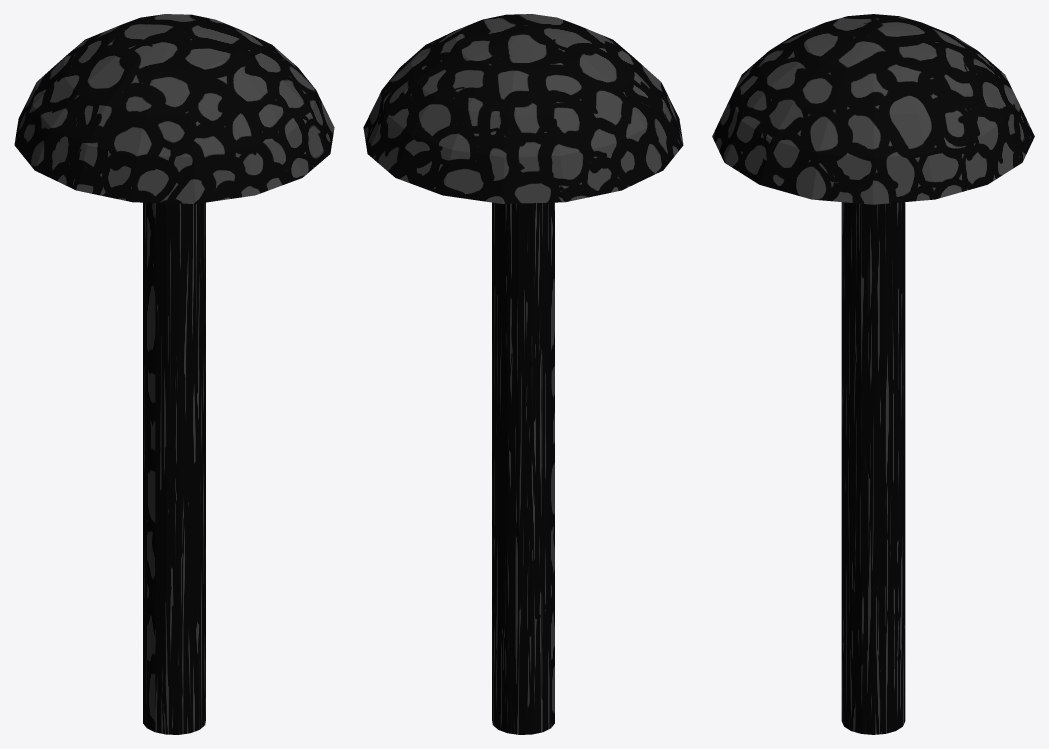
The model's file is champi.obj.
3 views of the same model, side by side, from view 1: azimuth 30°, elevation 25°; view 2: azimuth 150°, elevation 25°; view 3: azimuth 270°, elevation 25° (orthographic).
Parts seen in each view (by area): view 1: Cylinder; view 2: Cylinder; view 3: Cylinder.
Part boxes in pixels (bbox=[...]): Cylinder: bbox=[14, 14, 334, 734]; Cylinder: bbox=[363, 14, 683, 734]; Cylinder: bbox=[712, 14, 1034, 734].
Size of the model in its own units: 2 by 4.72 by 2.
